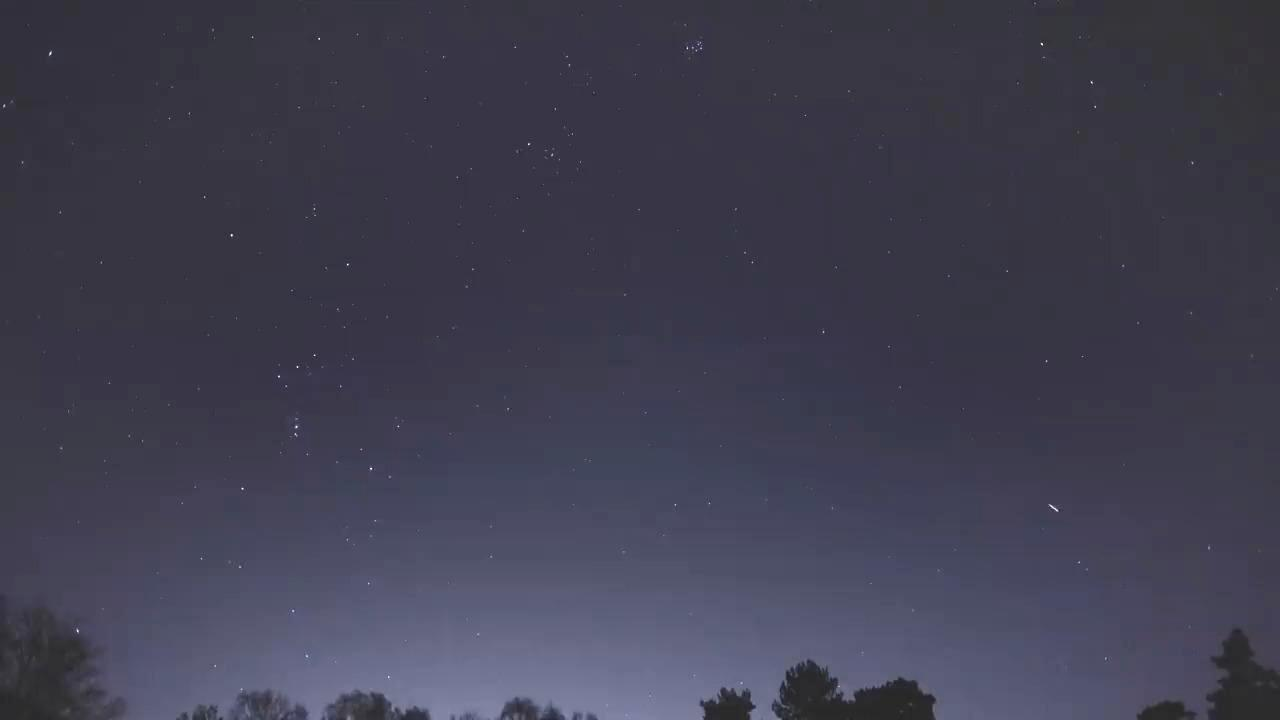meteorite: (1034, 497, 1073, 517)
